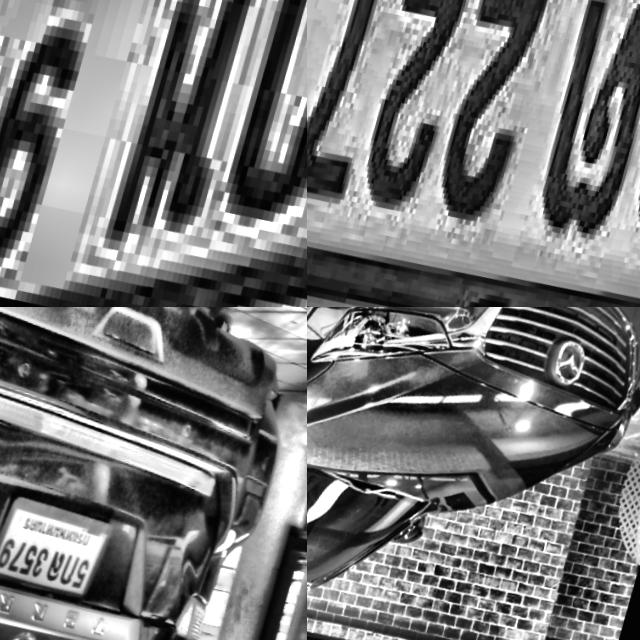license-plate: (307, 0, 640, 307), (0, 0, 307, 307), (0, 491, 119, 609)
